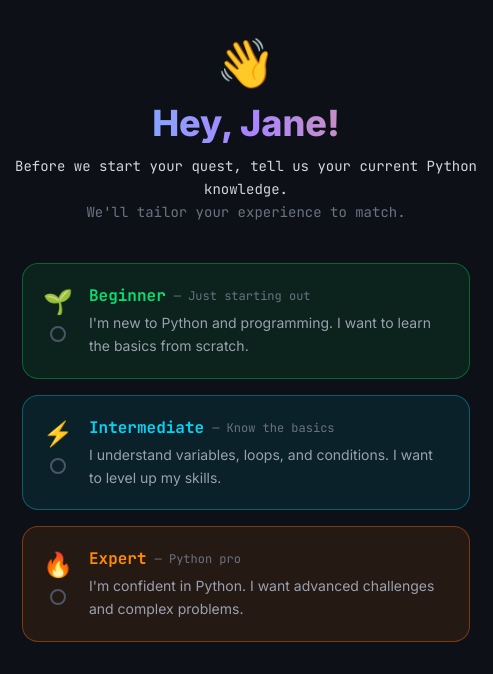
Test: SkillLevelPage › selecting a level enables the continue button
The width and height of the screenshot is (493, 674).
Click the button "Beginner" at (246, 321), box [22,263,470,379]
(page scrolled)
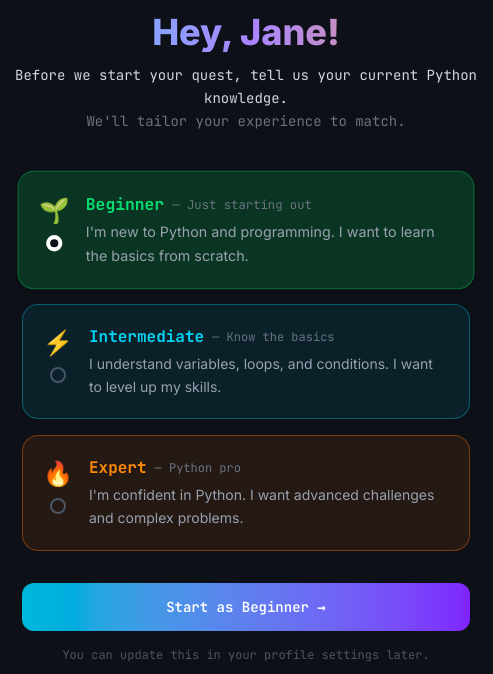
Check: the button "Start as Beginner →" is enabled, box [22,583,470,631]
